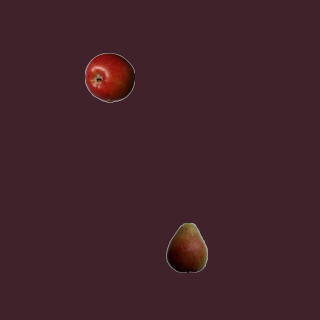Apple Braeburn: (84, 52, 134, 102)
Pear Forelle: (161, 222, 211, 272)
